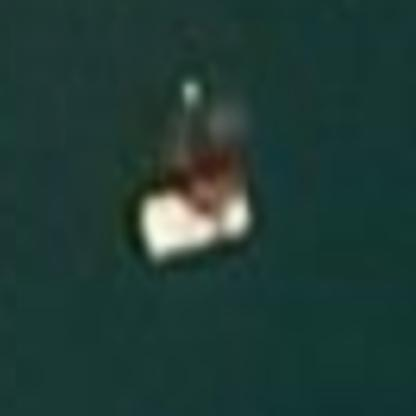ship: (115, 65, 266, 286)
